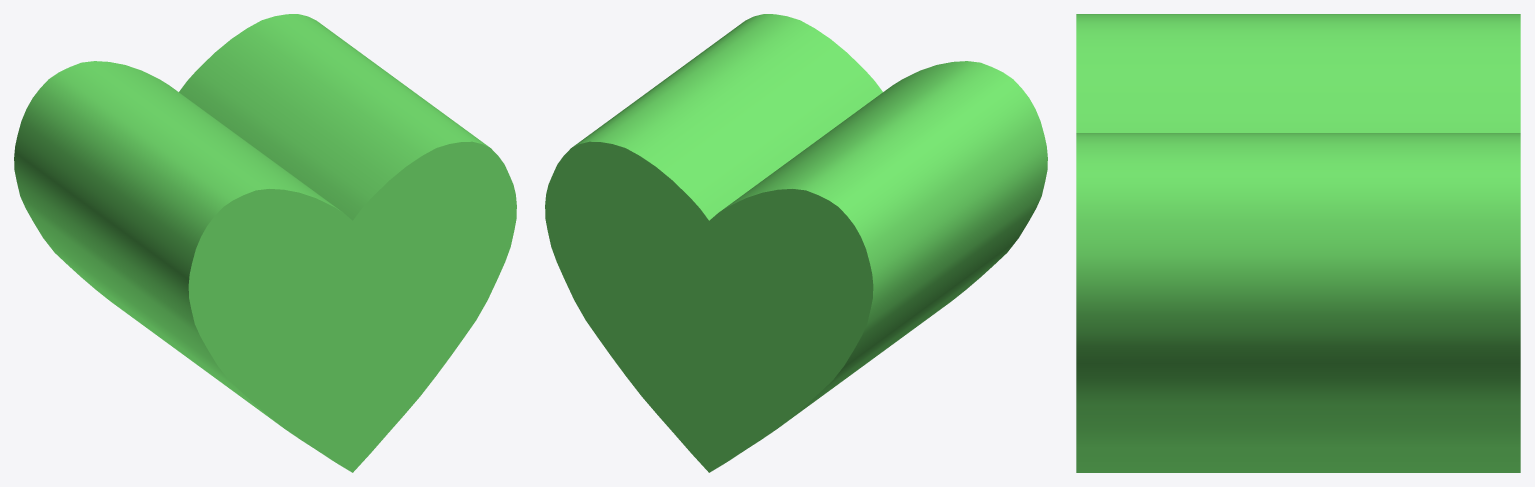
Rendered from heartfull.fbx.
The picture shows the model from 3 angles, left to right: view 1: azimuth 30°, elevation 25°; view 2: azimuth 150°, elevation 25°; view 3: azimuth 270°, elevation 25°; orthographic projection. The views are drawn at different scales.
Visible parts, largest first — view 1: heartfull; view 2: heartfull; view 3: heartfull.
Boxes of the visible parts, bbox=[...] form: heartfull: bbox=[14, 14, 516, 472]; heartfull: bbox=[545, 14, 1047, 472]; heartfull: bbox=[1076, 14, 1520, 472].
Size of the model in its own units: 118 by 105 by 108.
